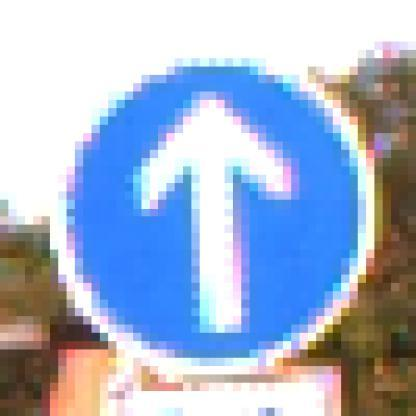straight: (41, 42, 392, 366)
